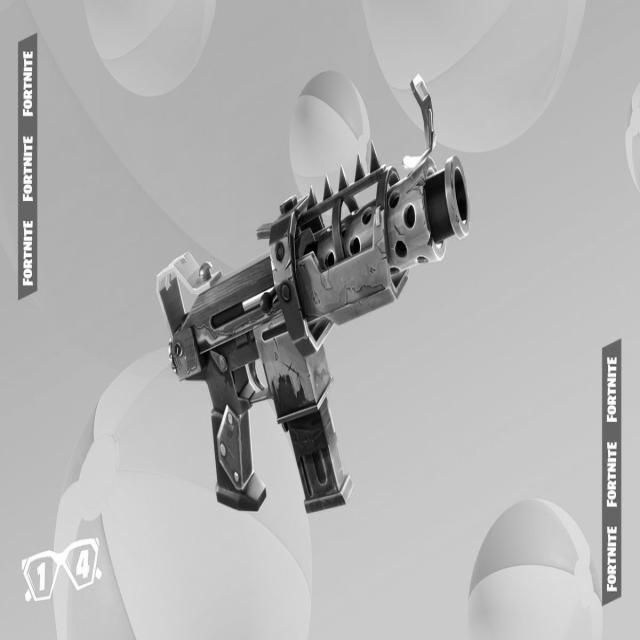Sub-machine-gun: (161, 34, 486, 547)
